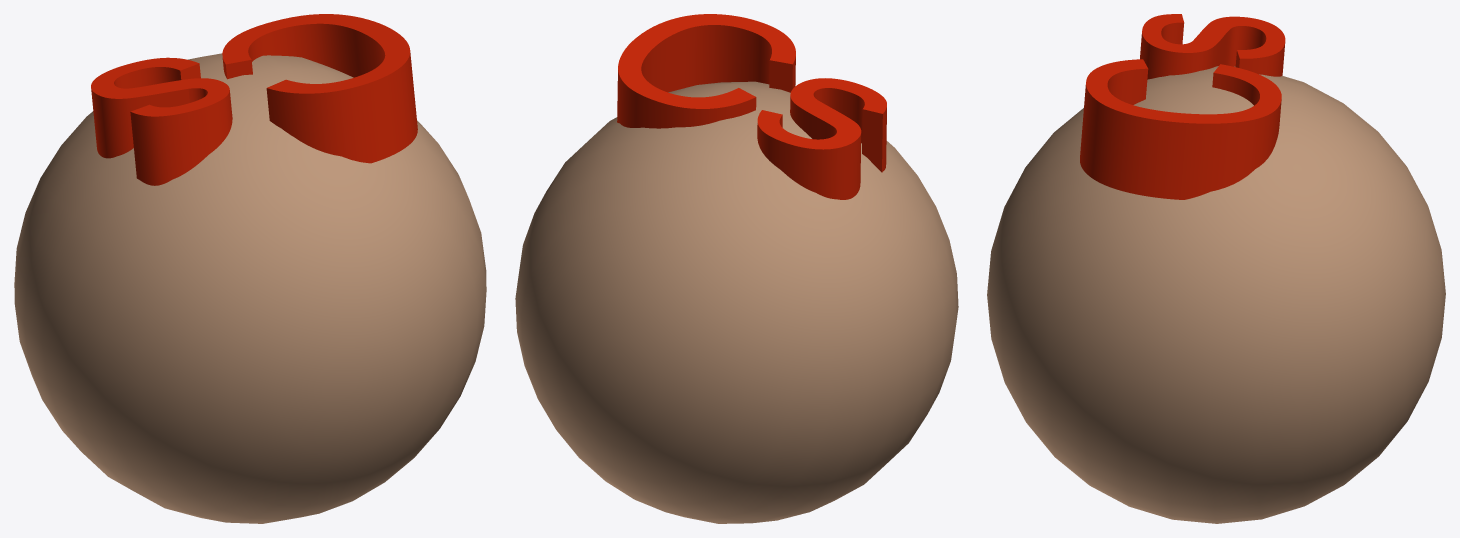
3 views of the same model, side by side, from view 1: azimuth 30°, elevation 25°; view 2: azimuth 150°, elevation 25°; view 3: azimuth 270°, elevation 25° (orthographic). The views are drawn at different scales.
Visible parts, largest first — view 1: Cs; view 2: Cs; view 3: Cs.
Boxes of the visible parts, <box> form: Cs: <box>14,14,486,523</box>; Cs: <box>515,14,958,523</box>; Cs: <box>987,14,1445,523</box>.
Bounding box in the file's own units: 38.71 × 41.22 × 38.74.
